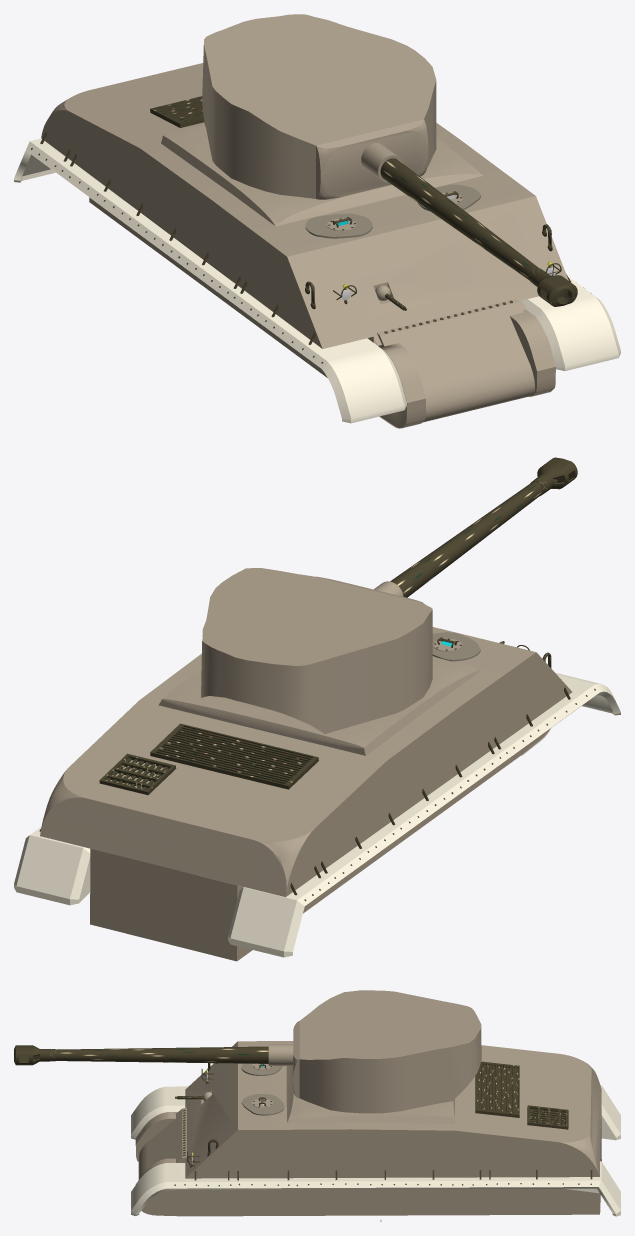
Rendered from SHERMAN TANK.glb.
3 views of the same model, one above another, from view 1: azimuth 30°, elevation 25°; view 2: azimuth 150°, elevation 25°; view 3: azimuth 270°, elevation 25° (orthographic). The views are drawn at different scales.
Visible parts, largest first — view 1: Cube, Plane.007, Plane, Cube.007, Plane.017, Cylinder.034, Cube.030, Plane.019, Cylinder.037, Cube.032; view 2: Cube, Plane.007, Plane, Plane.017, Plane.019, Cylinder.034, Plane.018, Cube.030; view 3: Cube, Plane.007, Plane, Cylinder.034, Plane.017, Plane.019, Cube.007, Plane.018, Cube.032, Cylinder.037.
Boxes of the visible parts, x1,y1,x2,y2 form: Cube: (41, 63, 568, 428); Plane.007: (202, 14, 436, 199); Plane: (14, 138, 620, 423); Cube.007: (377, 298, 529, 388); Plane.017: (161, 125, 482, 226); Cylinder.034: (380, 158, 577, 306); Cube.030: (305, 213, 372, 238); Plane.019: (150, 96, 204, 127); Cylinder.037: (361, 143, 403, 182); Cube.032: (418, 184, 480, 211); Cube: (40, 627, 572, 961); Plane.007: (201, 568, 432, 734); Plane: (14, 673, 620, 957); Plane.017: (159, 656, 480, 755); Plane.019: (150, 723, 318, 789); Cylinder.034: (390, 457, 577, 597); Plane.018: (99, 753, 176, 794); Cube.030: (432, 632, 480, 661); Cube: (135, 1041, 601, 1216); Plane.007: (293, 990, 481, 1113); Plane: (131, 1085, 620, 1216); Cylinder.034: (14, 1045, 268, 1065); Plane.017: (286, 1066, 454, 1123); Plane.019: (475, 1061, 519, 1117); Cube.007: (147, 1107, 186, 1168); Plane.018: (527, 1105, 568, 1129); Cube.032: (241, 1094, 284, 1115); Cylinder.037: (268, 1044, 293, 1065).
Bounding box in the file's own units: 0.8553 × 0.7891 × 2.2.
Materials: 6 (1 with a texture image).
